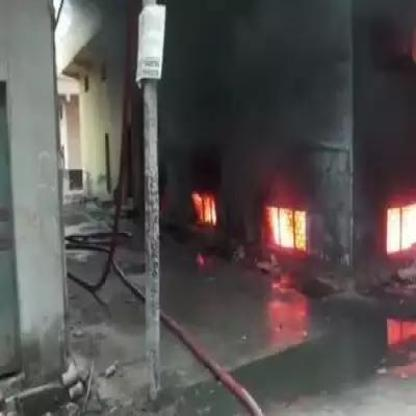fire: (259, 197, 310, 252), (382, 201, 416, 258), (187, 187, 223, 230)
